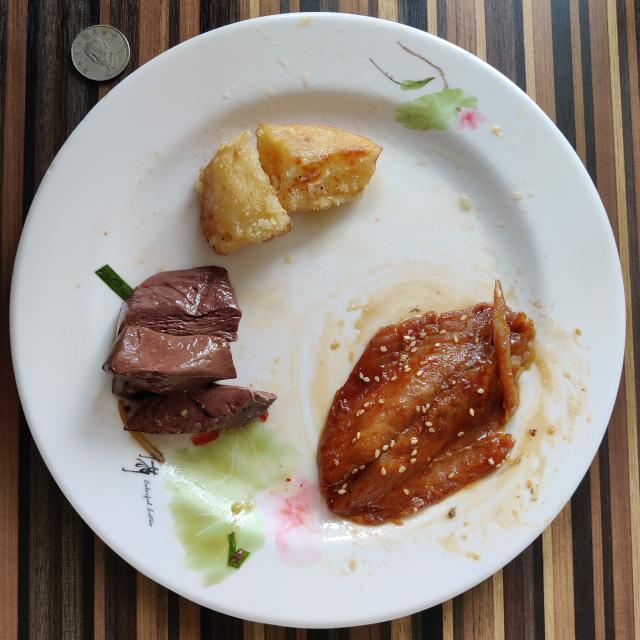Kabayaki sea bream fillet: (318, 284, 535, 524)
coin: (71, 25, 130, 81)
fried potato: (195, 124, 381, 255)
pig blood curd: (104, 266, 276, 434)
